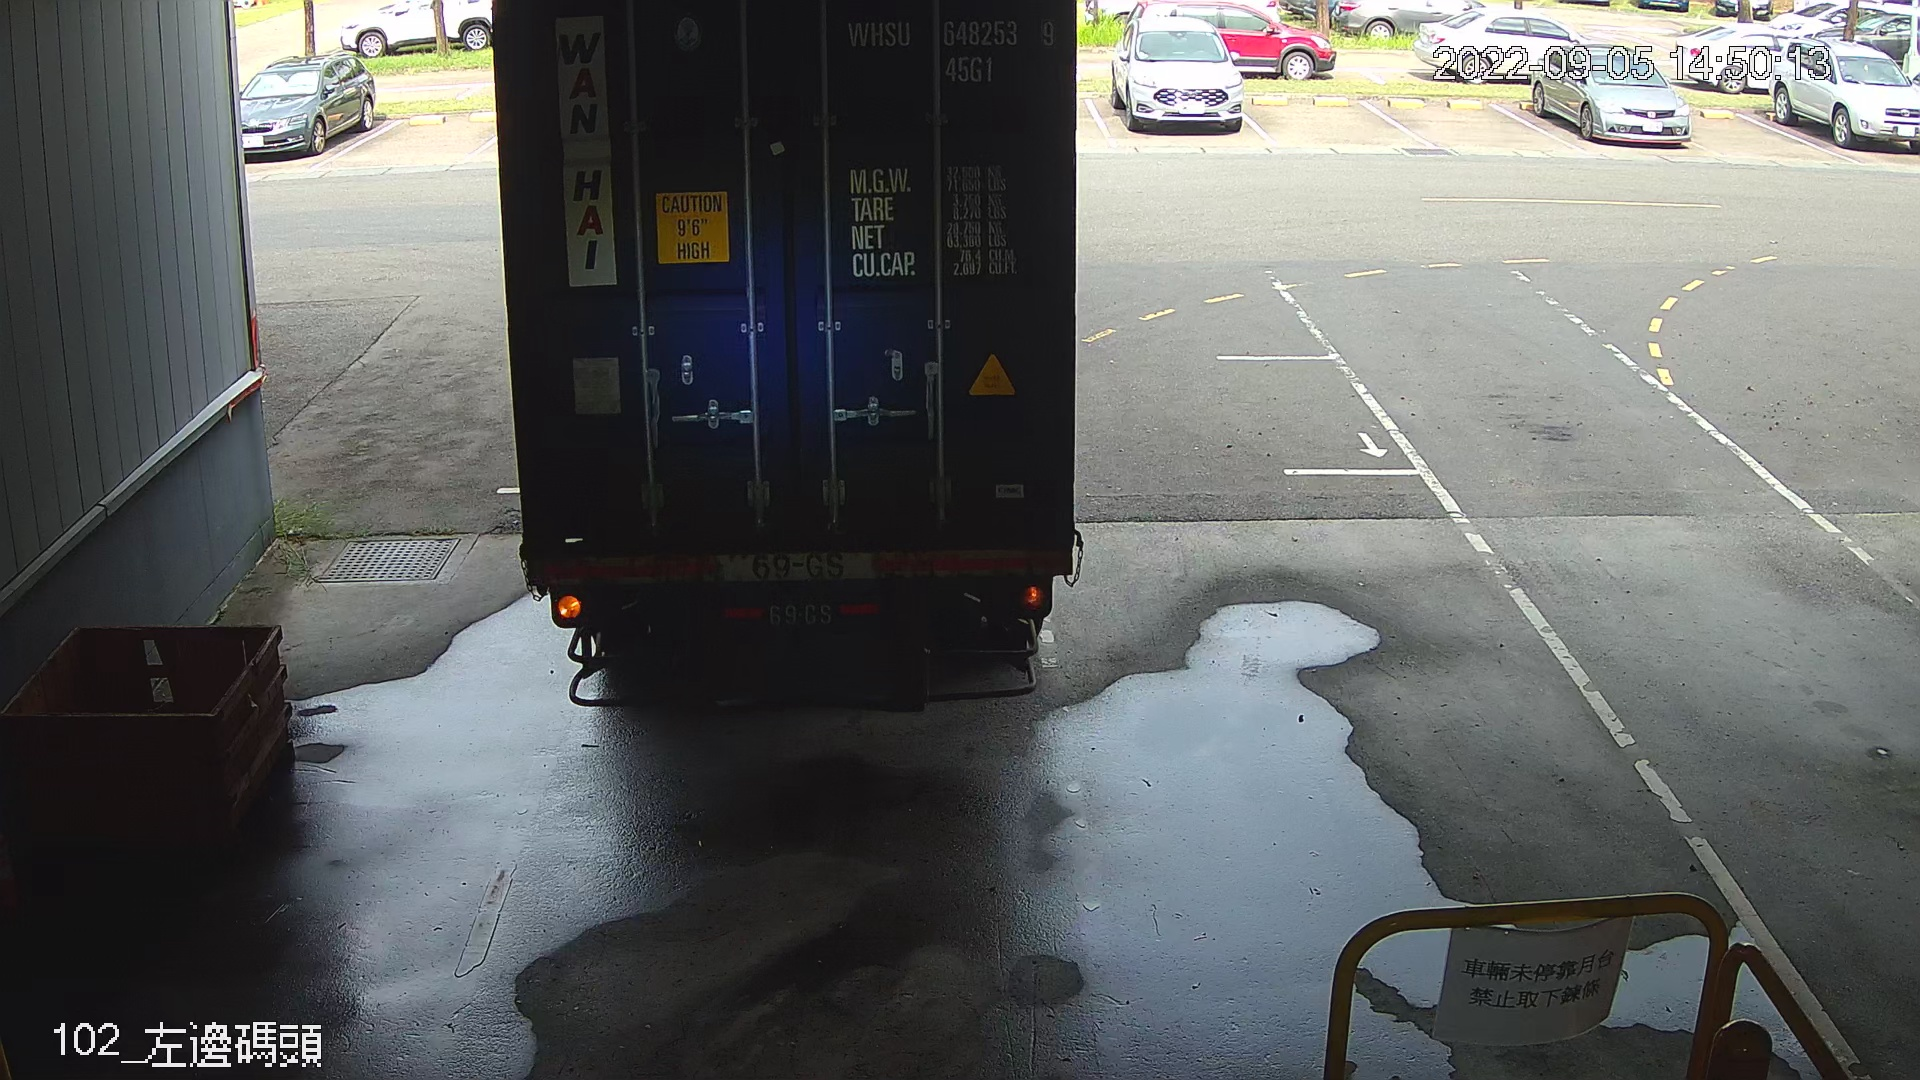container: (844, 11, 1062, 94)
